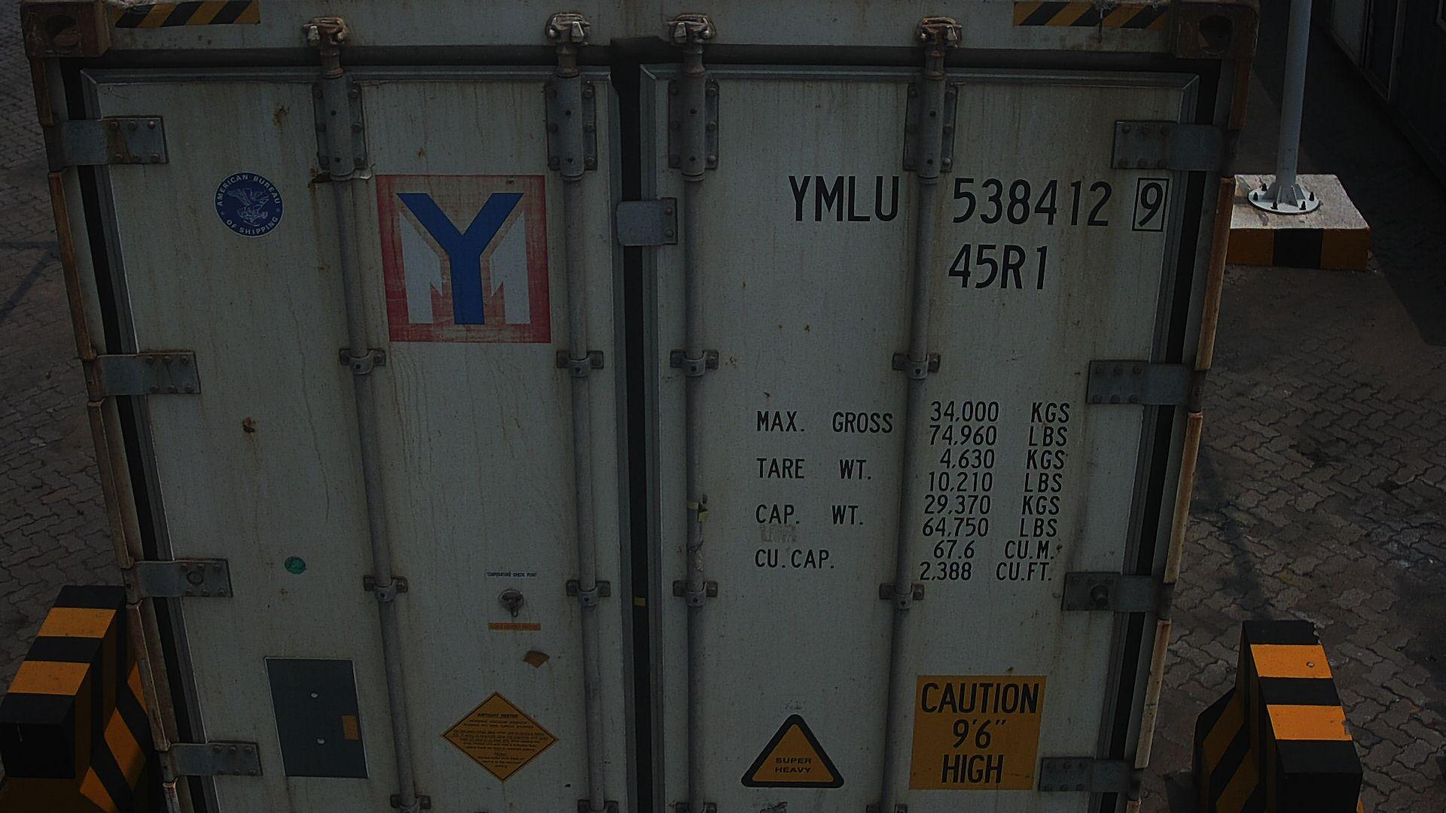container-numbers: (786, 170, 1171, 236), (945, 240, 1057, 295)
